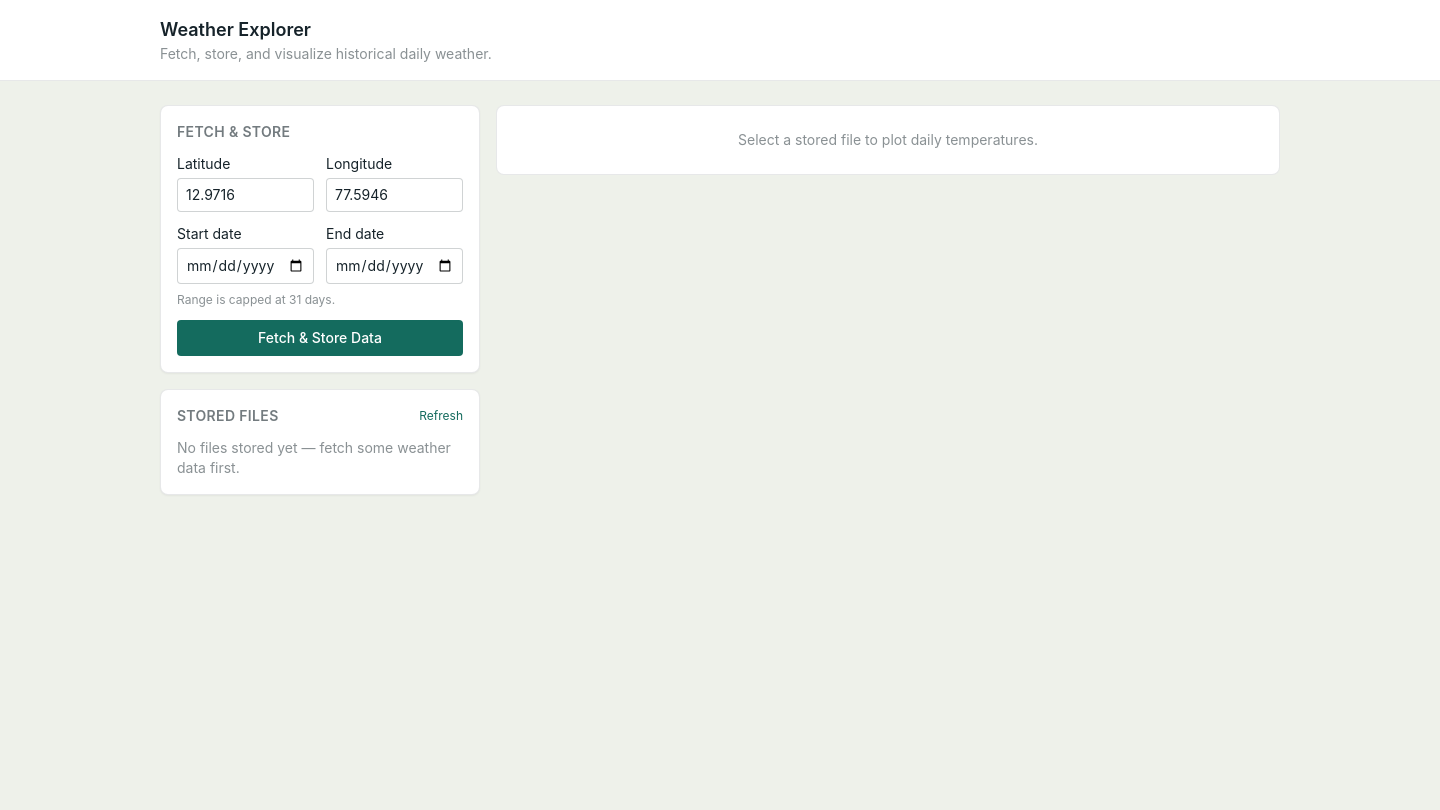
Scenario: App › runs the full store → list → visualize flow on submit
The image size is (1440, 810).
expect the text "No files stored yet — fetch some weather data first." is shown: met, box [177,438,463,478]
Type "2024-01-01" into the date field labelled "Start date" at [246, 266], box [177,248,314,284]
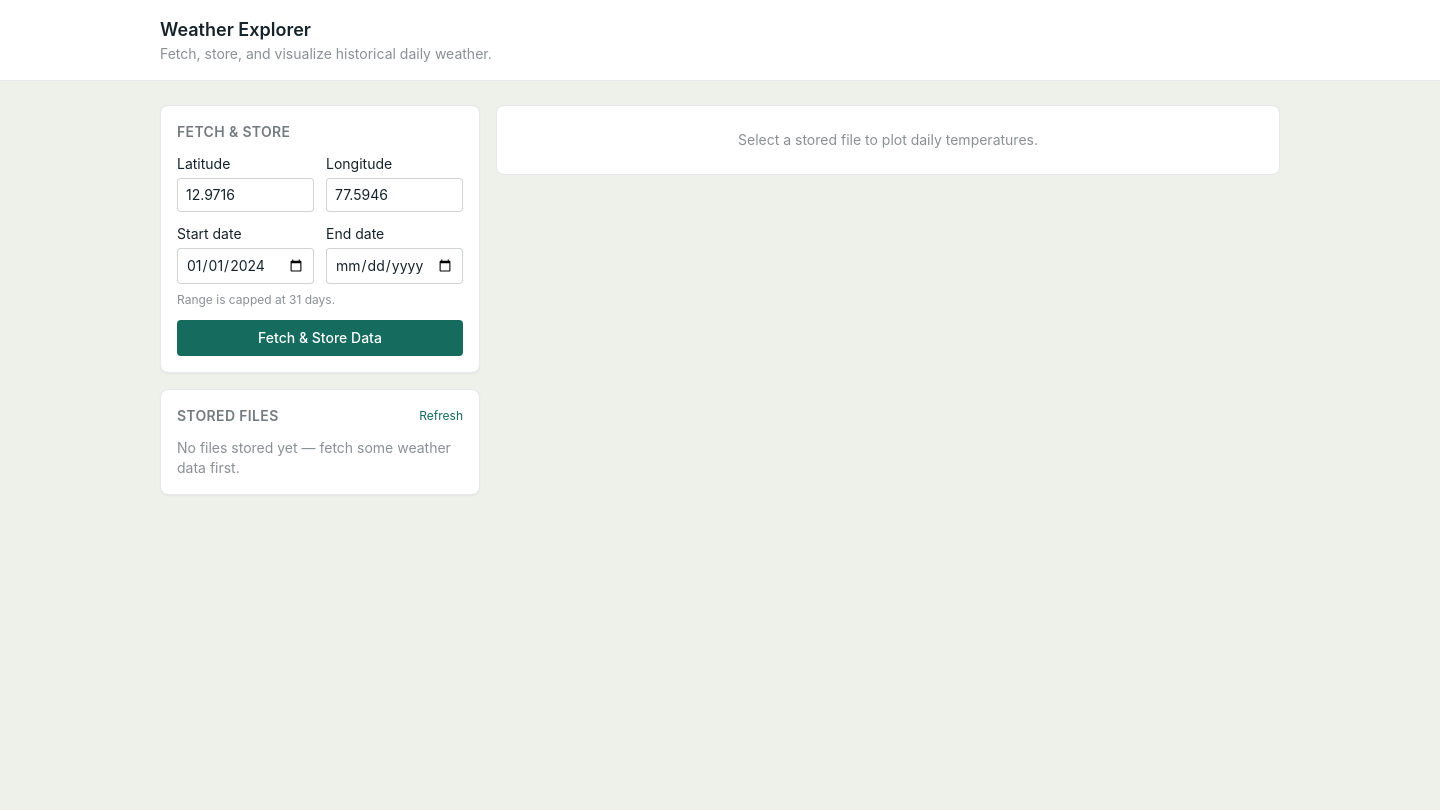
Type "2024-01-05" into the date field labelled "End date" at [394, 266], box [326,248,463,284]
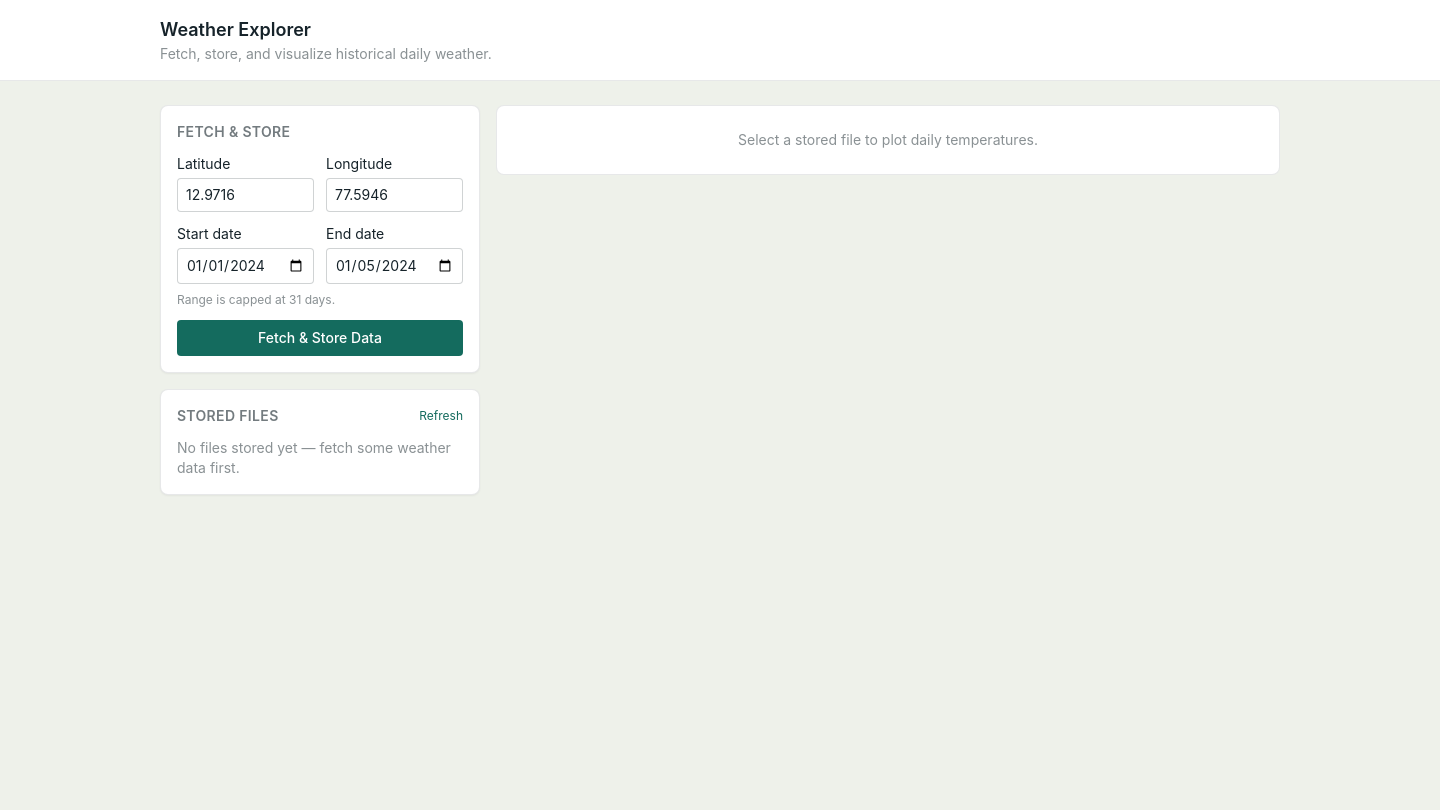
Click the button "Fetch & Store Data" at [320, 338], box [177,320,463,356]
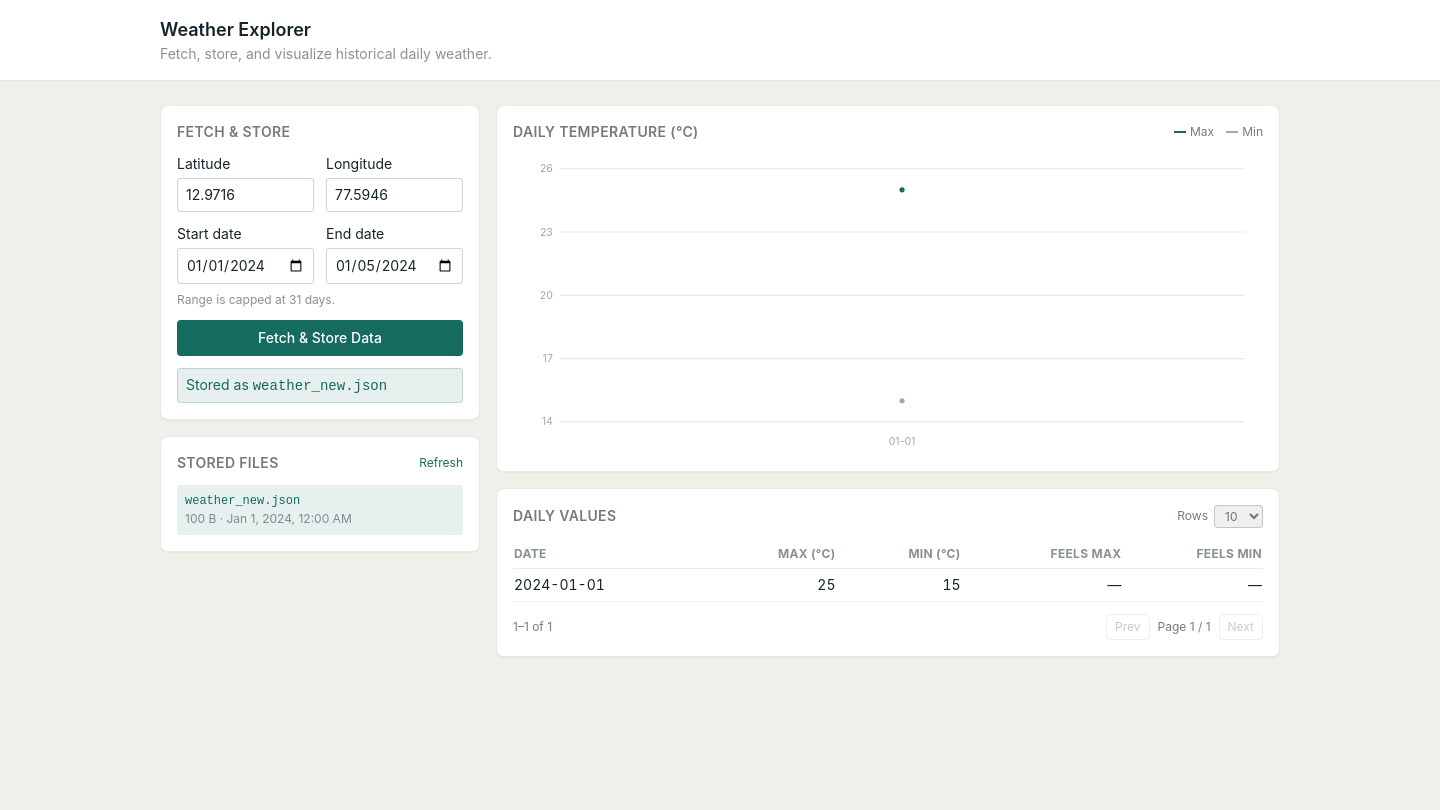
expect the text "Stored as weather_new.json" is shown: met, box [177,368,463,403]
expect the text "2024-01-01" is shown: met, box [513,568,712,601]
